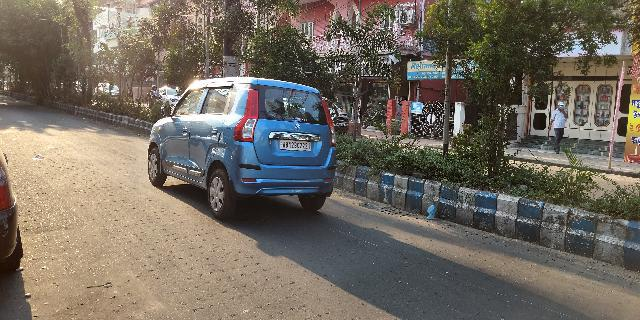Car: (145, 72, 338, 220)
